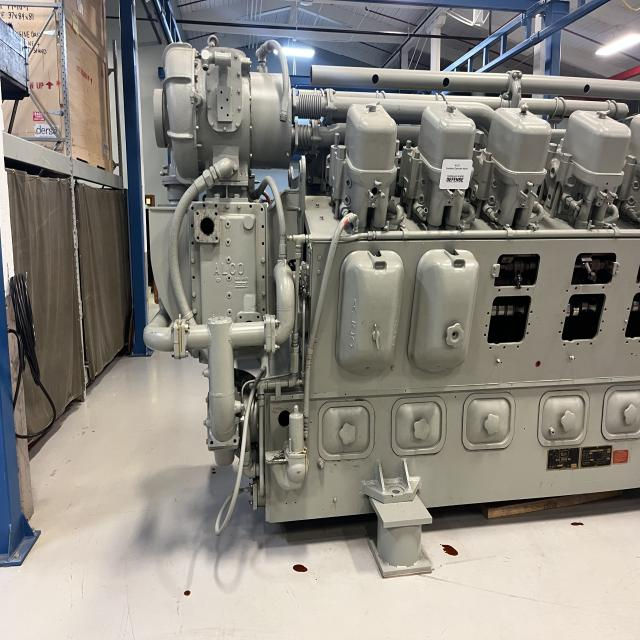Oil Leak: (440, 541, 459, 560), (293, 564, 307, 572), (184, 590, 190, 596)
